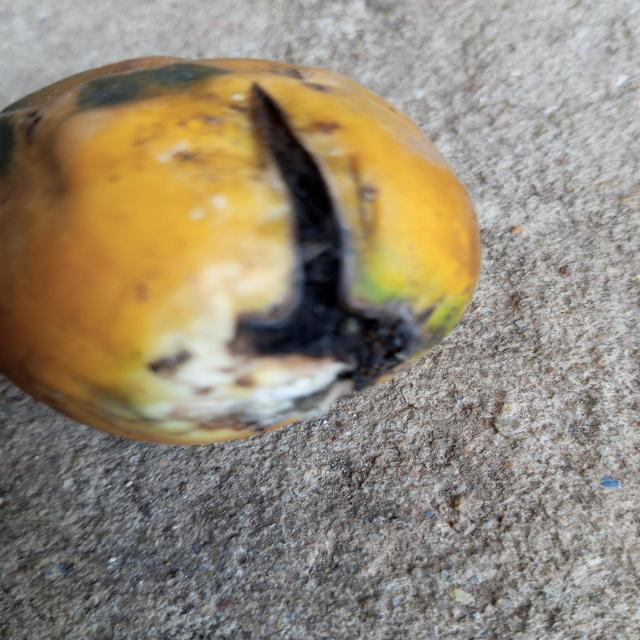damaged: (0, 57, 482, 449)
